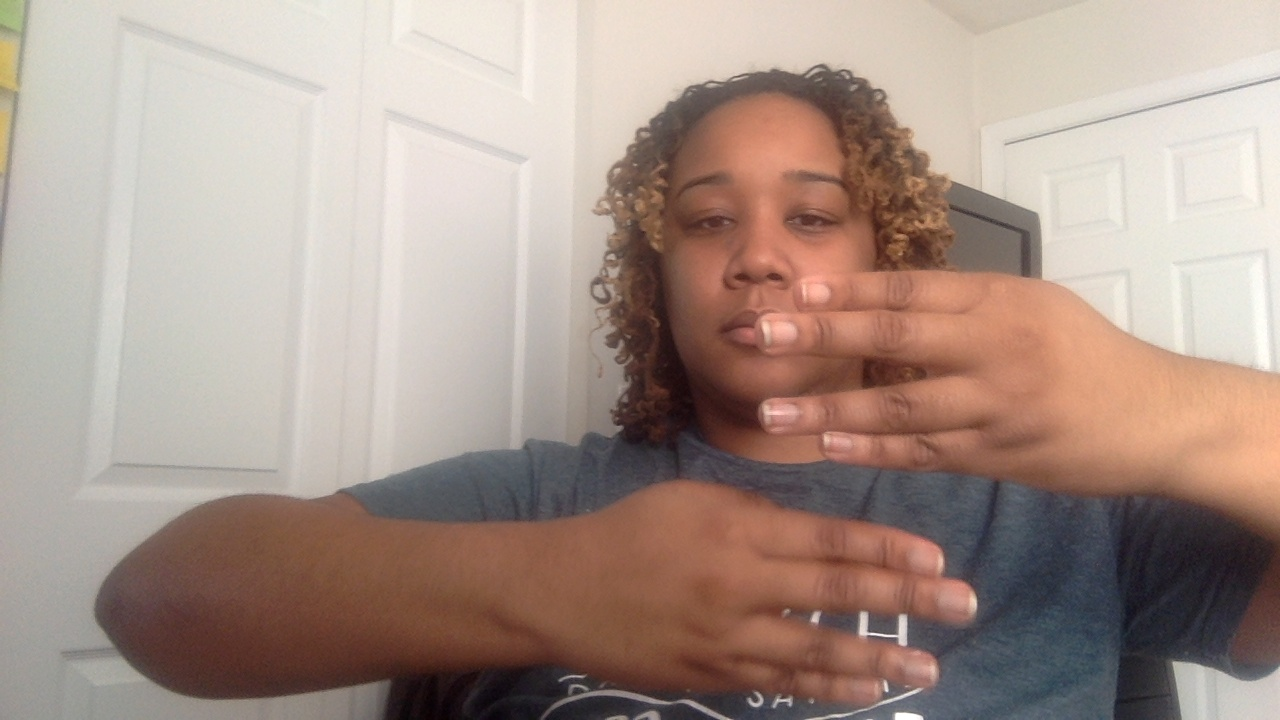world: (530, 257, 1087, 710)
